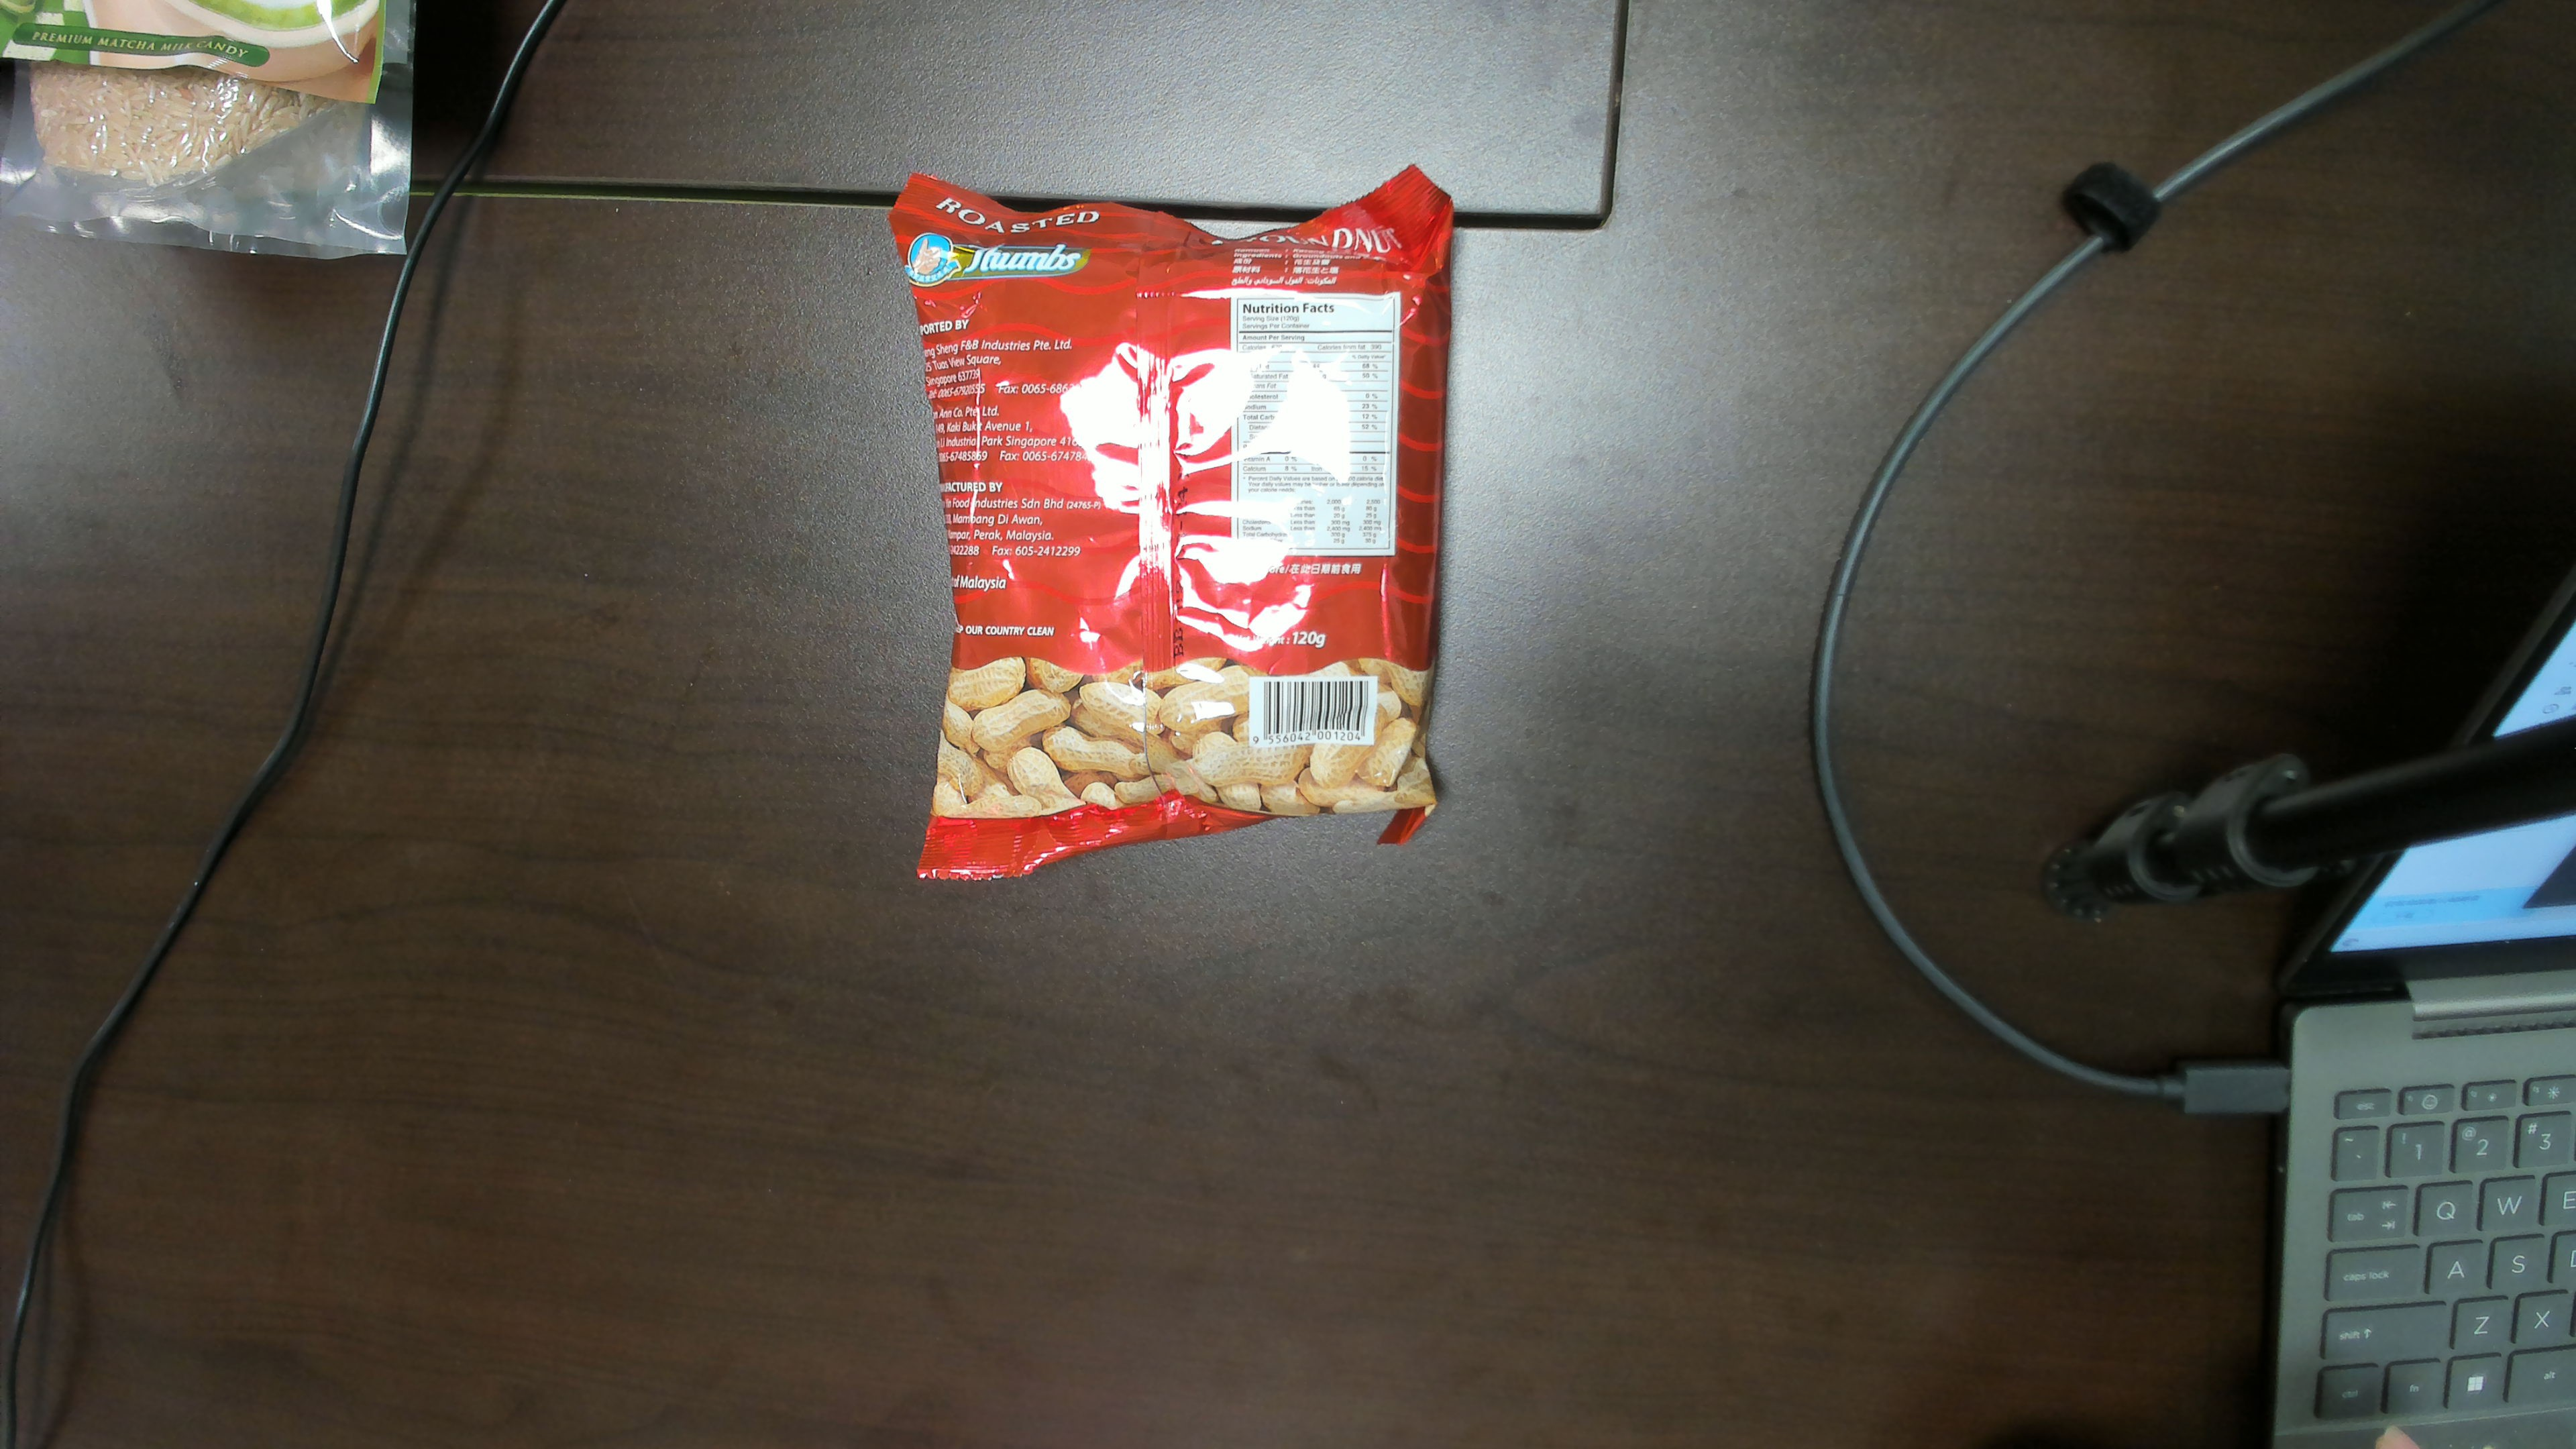Nuts_100-199g_Halal_NonHealthy: (952, 235, 1405, 791)
